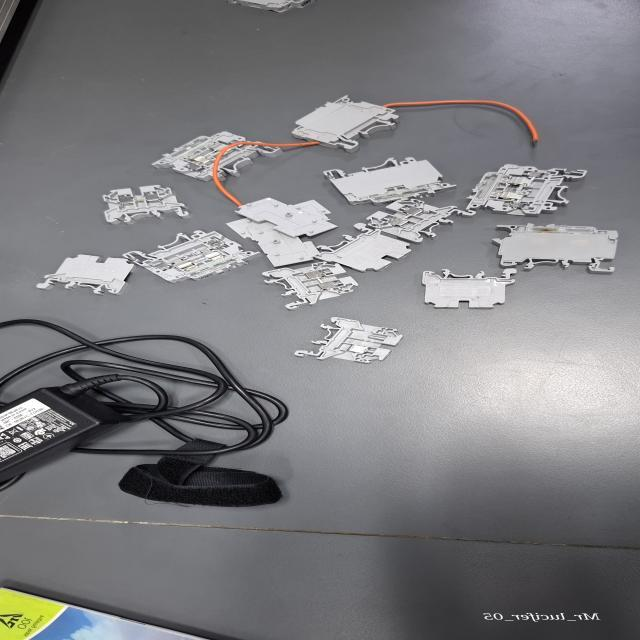Inverted: (399, 258, 532, 318), (24, 253, 144, 304), (299, 228, 422, 274)
Pass: (344, 196, 511, 239), (252, 256, 360, 318), (74, 176, 182, 236)
Reject: (282, 322, 422, 365)
